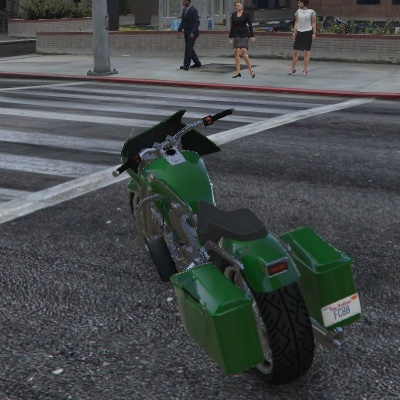off: (261, 254, 294, 283)
